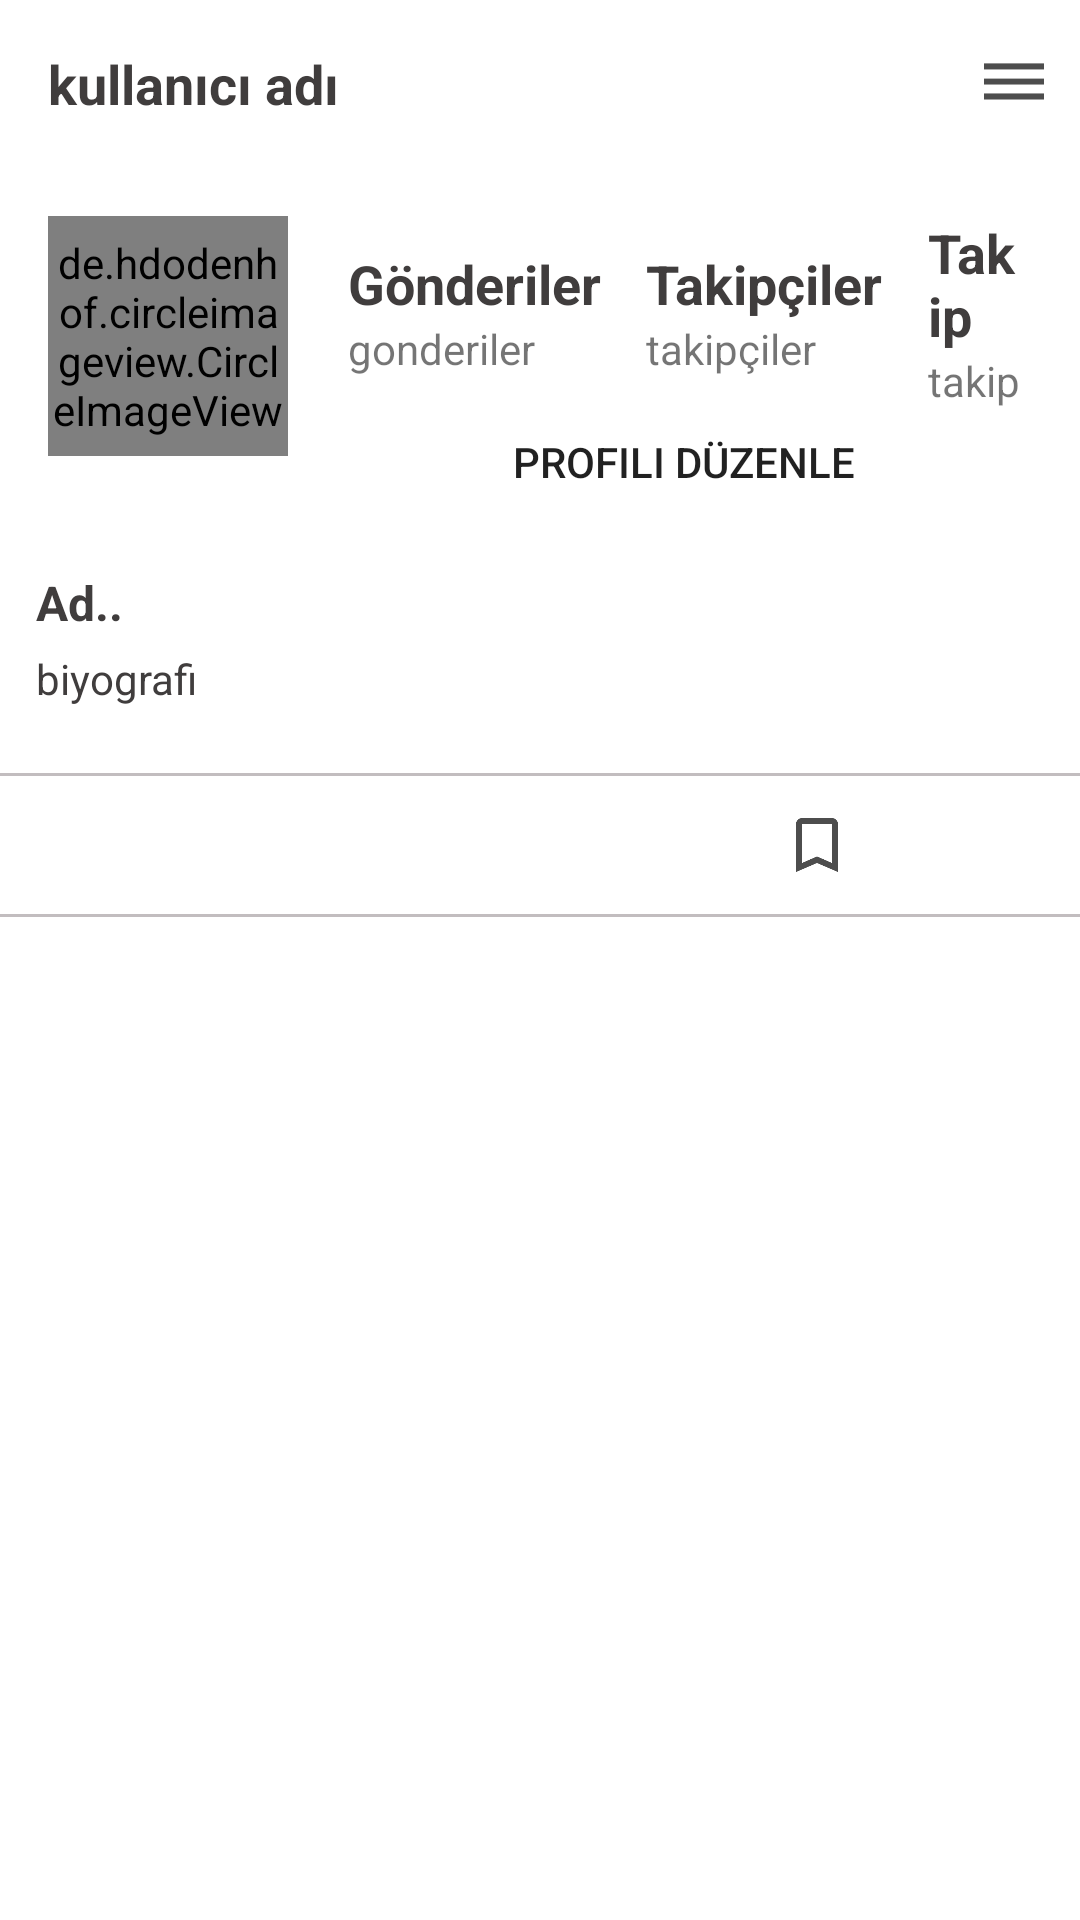

Icons on this 1080×1920 Android screen, each with its box as (x1, y1, x2, y2):
secenekler: (984, 63, 1044, 100)
